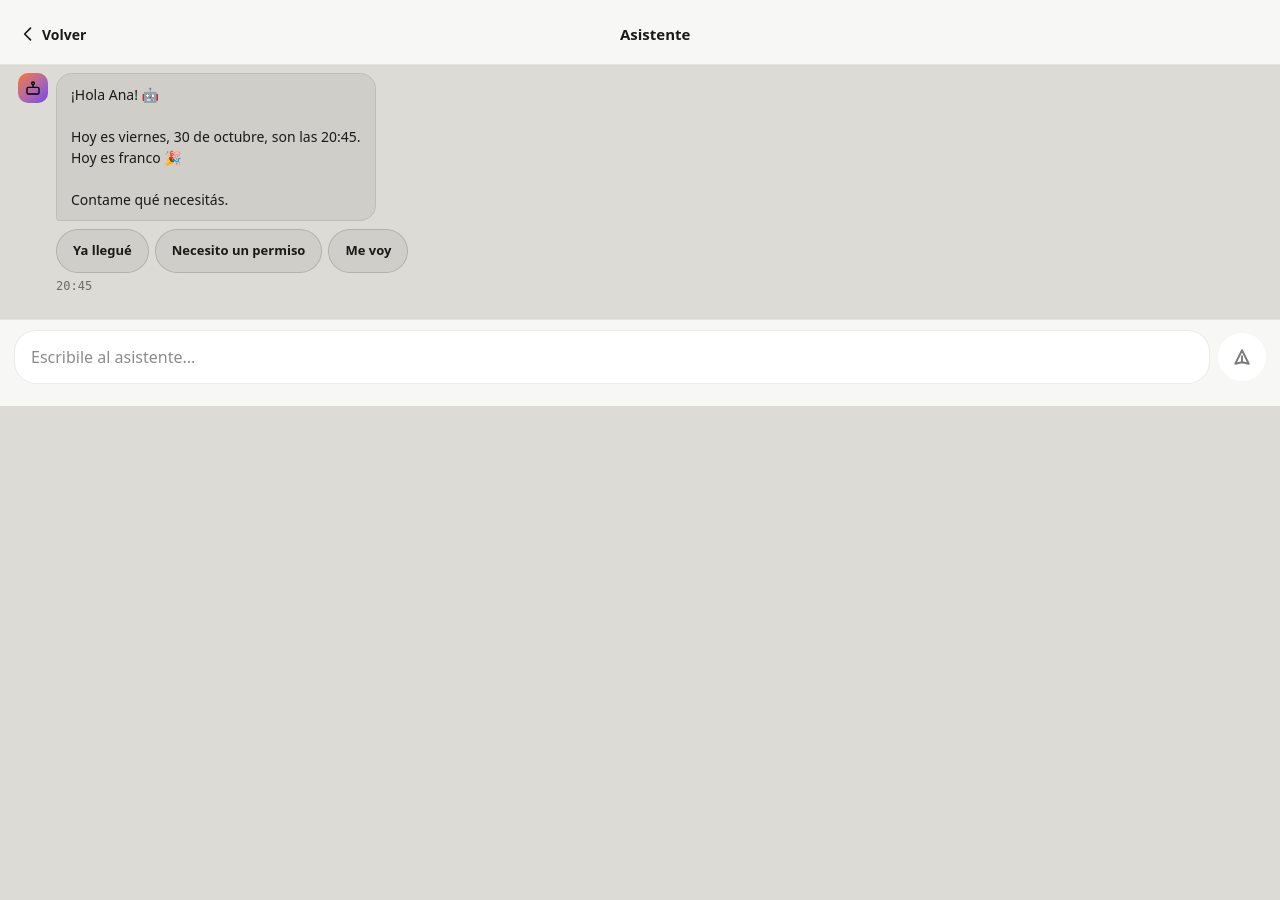
Test: chat — 'Ya llegué' ficha la entrada con la ubicación y saluda
Click the button "Ya llegué": coordinates (102, 251) [56,229,149,273]
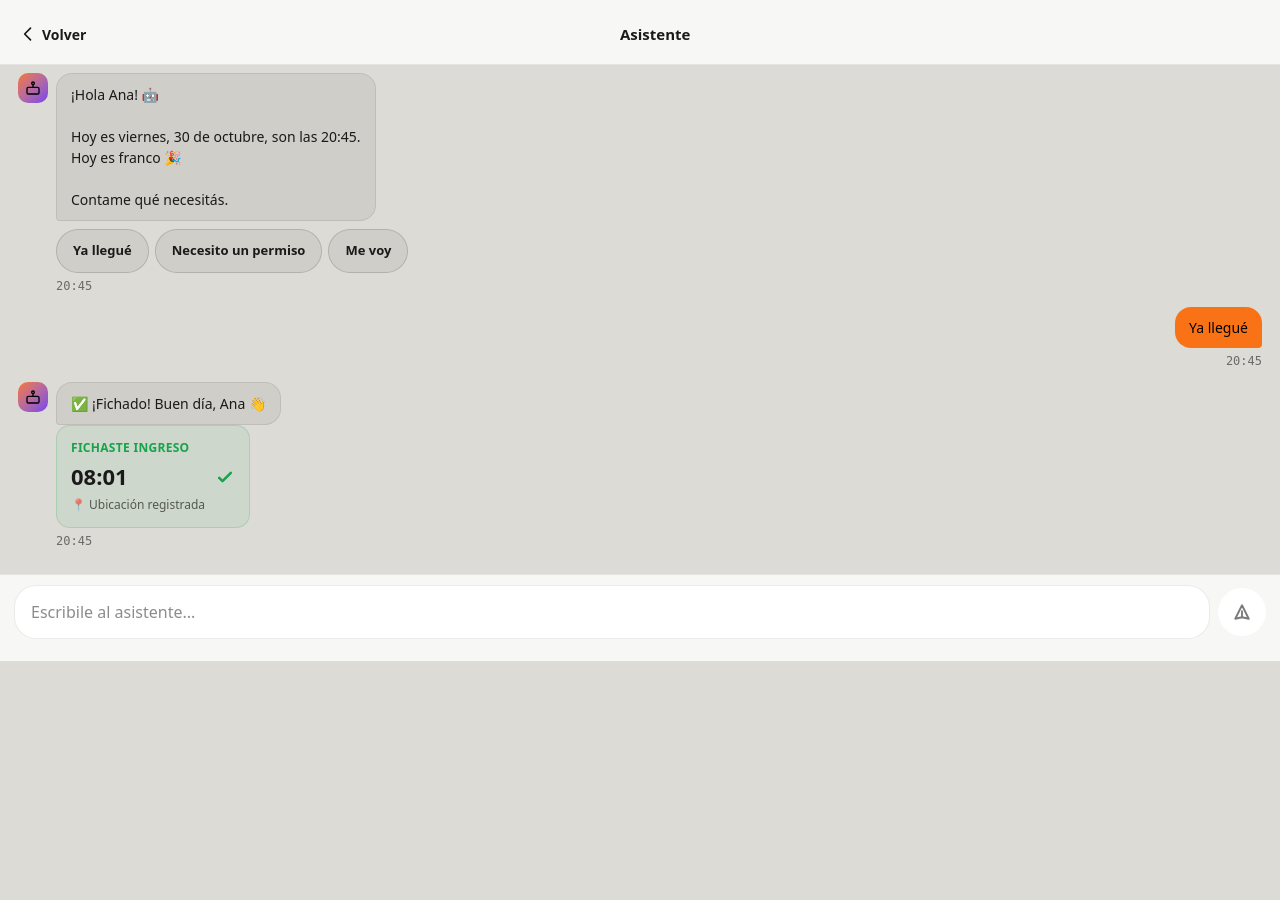
Check: the text "✅ ¡Fichado! Buen día, Ana 👋" is shown, box [56,382,281,425]
